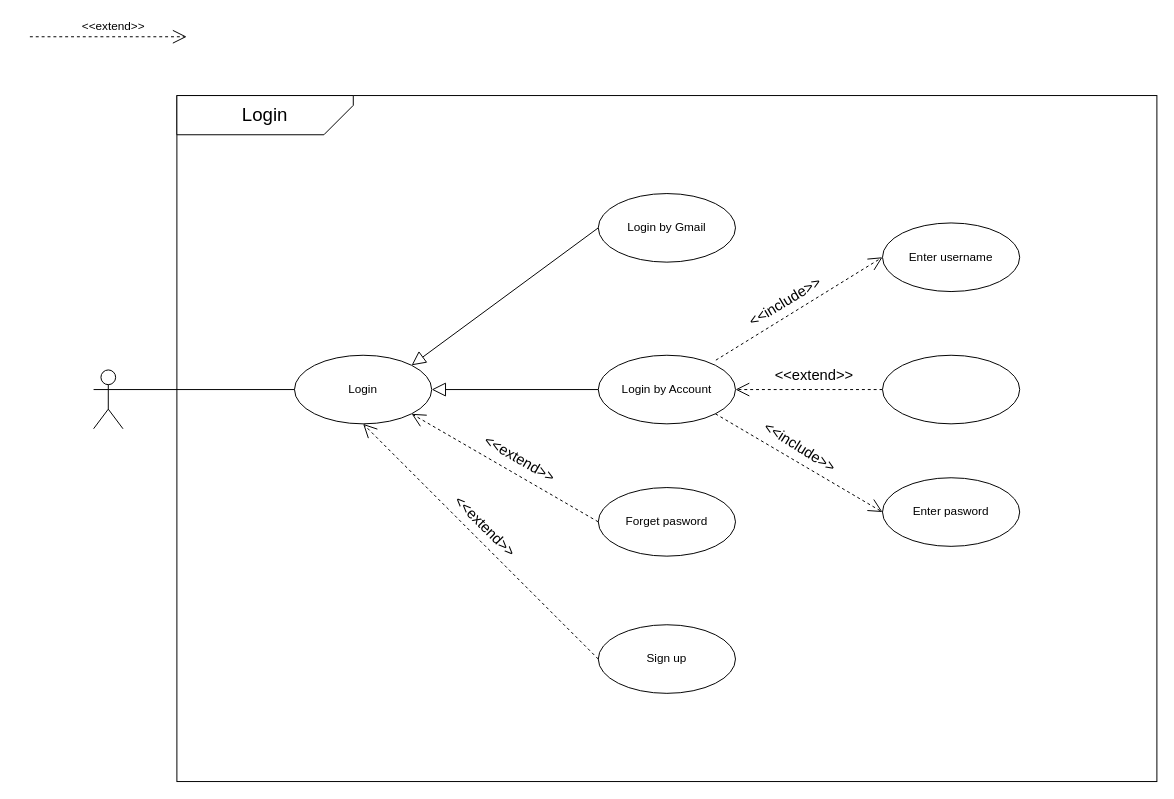
The diagram is 1174 pixels wide and 799 high, and some of its shapes have lost their labels. Here are the shapes that lost their labels. From the top down, the centre of each, then its label:
At [108,399]: "ROLE_USER / ROLE_ADMIN".
At [951,389]: "Remember Me".
